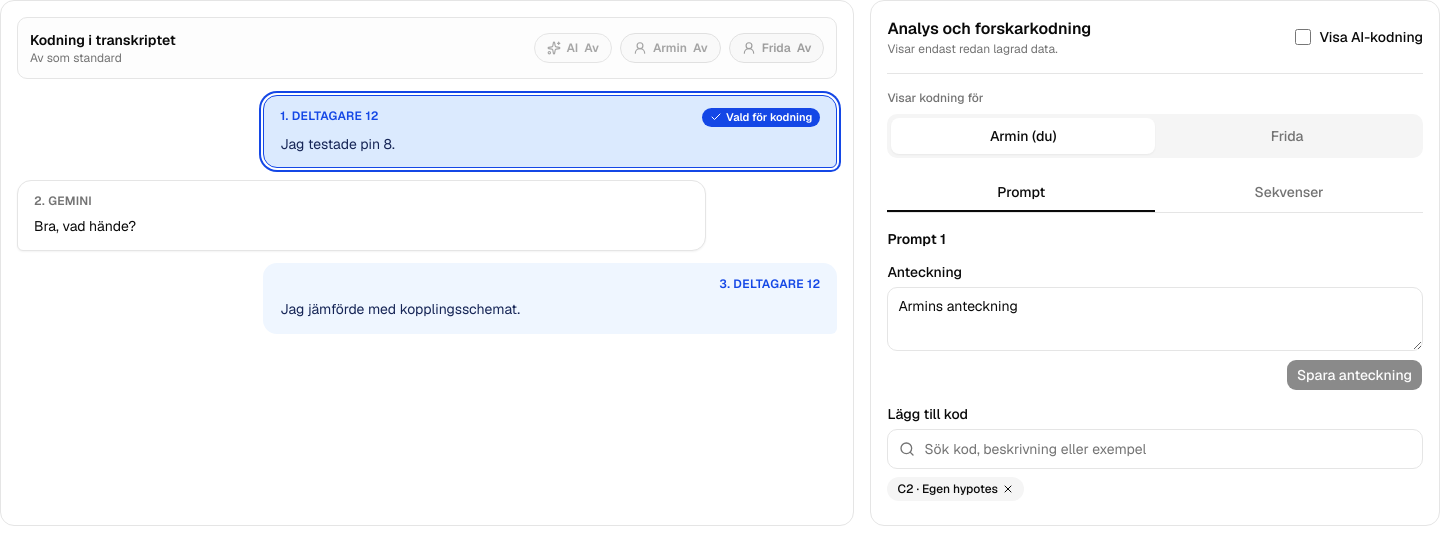
Test: TranscriptWorkspace › shows AI, Armin, and Frida prompt codes only when opted in
Expected: the text "1. Deltagare 12" is shown, [280,108,379,124]
Expected: the text "2. Gemini" is shown, [34,193,92,209]
Click the button with aria-label "Visa AI-koder i transkriptet": (573, 48) [534,33,612,63]
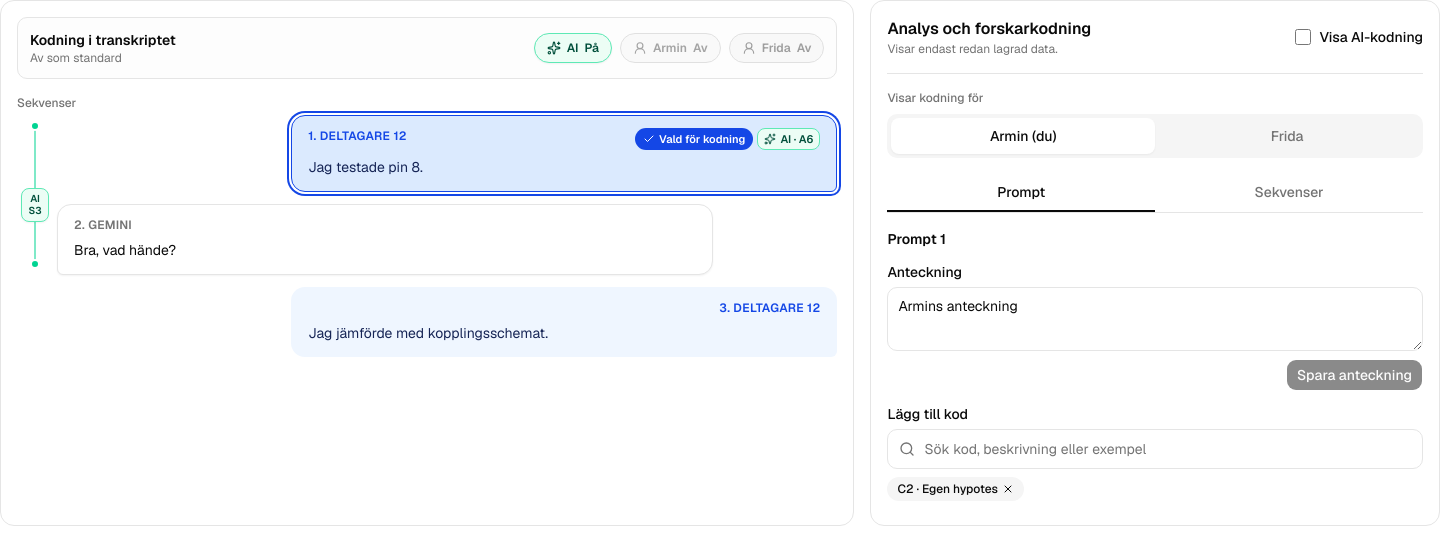
Click the button with aria-label "Visa Armin-koder i transkriptet": (670, 48) [620,33,721,63]
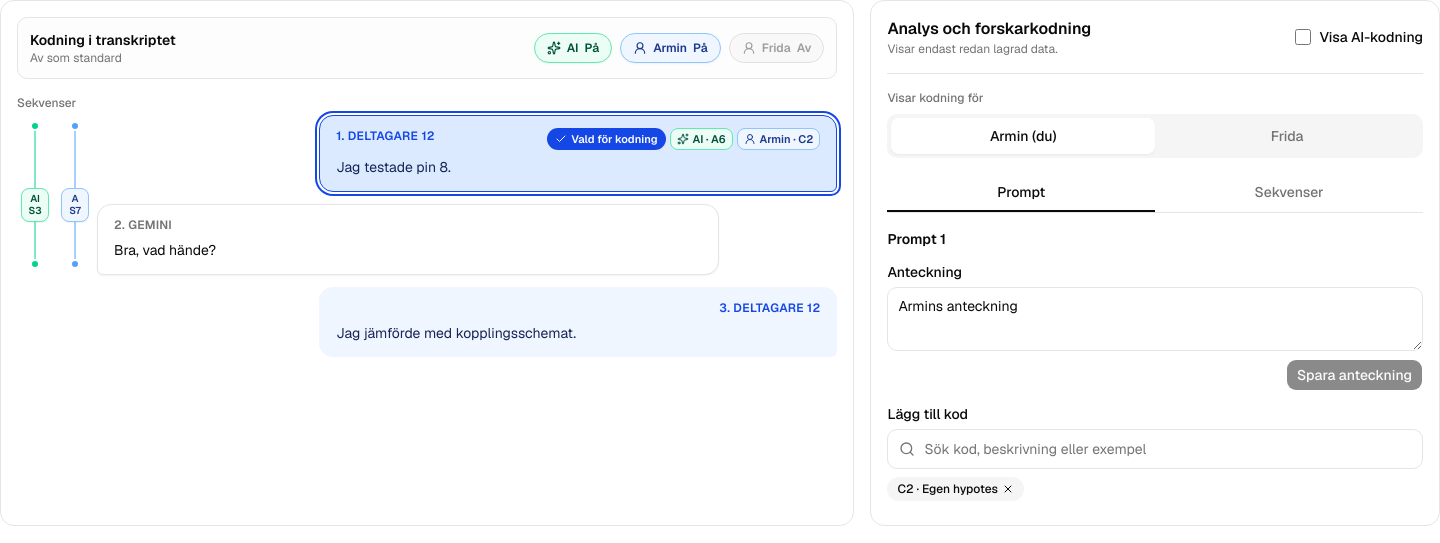
Click the button with aria-label "Visa Frida-koder i transkriptet": (777, 48) [729,33,824,63]
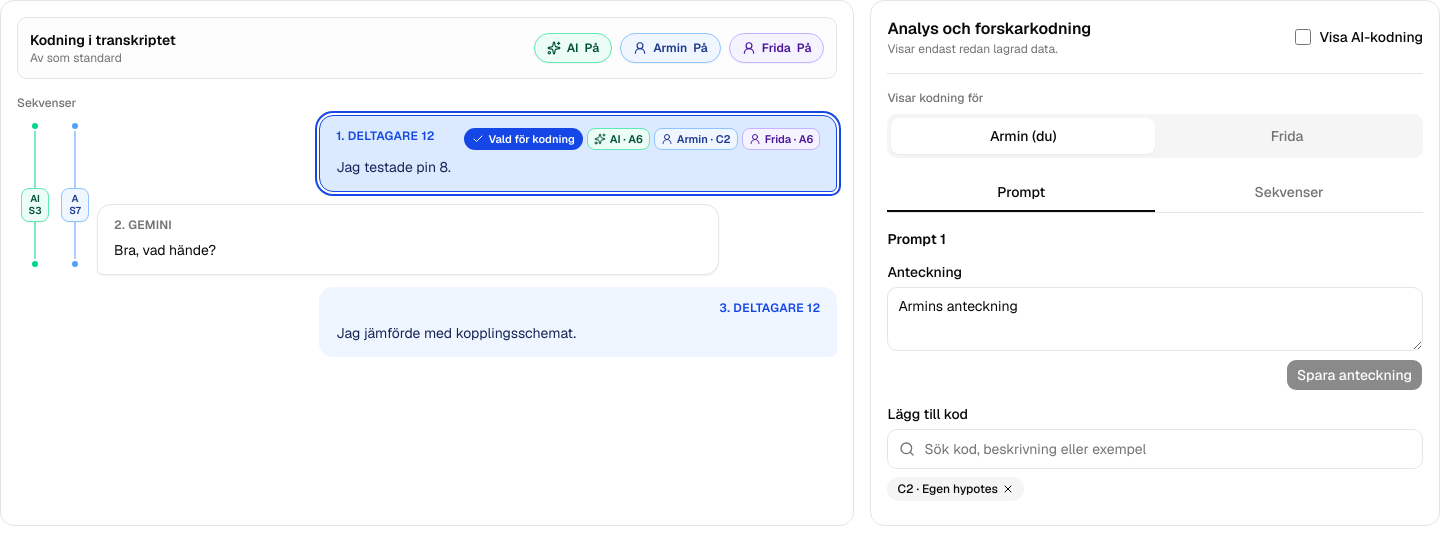
Expected: the text "AI · A6" is shown, [587,128,650,150]
Expected: the text "Armin · C2" is shown, [654,128,738,150]
Expected: the text "Frida · A6" is shown, [742,128,820,150]
